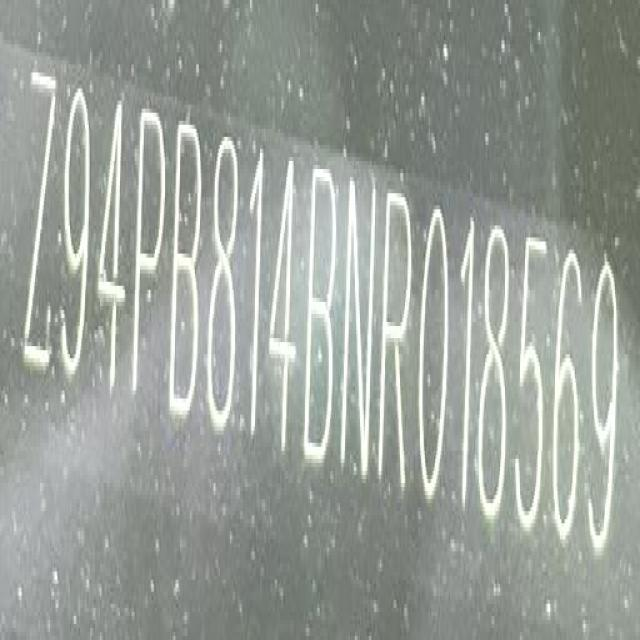0: (418, 206, 452, 507)
4: (267, 149, 299, 453), (97, 90, 124, 398)
5: (514, 231, 546, 537)
6: (552, 235, 582, 546)
8: (476, 222, 510, 528), (207, 137, 240, 438), (456, 218, 475, 514), (247, 146, 266, 437)
9: (587, 255, 619, 560), (59, 83, 91, 384)
B: (168, 112, 202, 423), (302, 161, 336, 465)
N: (344, 185, 377, 474)
P: (131, 107, 167, 395)
R: (377, 186, 413, 489)
Z: (24, 64, 59, 376)
